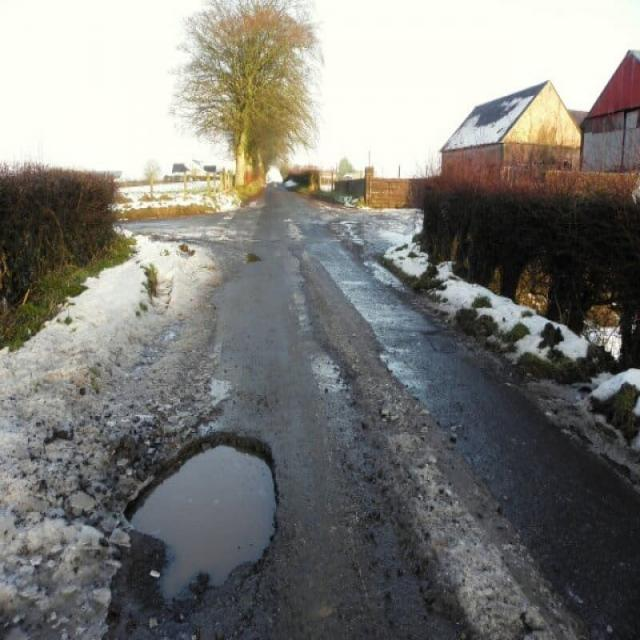Pothole: (85, 432, 286, 640)
